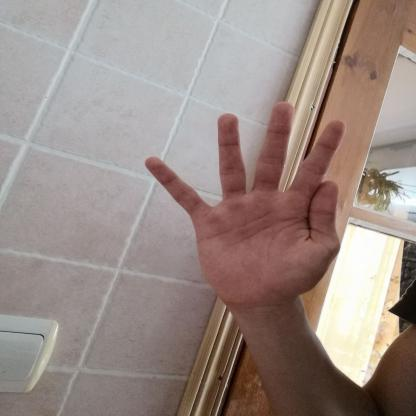SHEEN: (132, 98, 360, 317)
